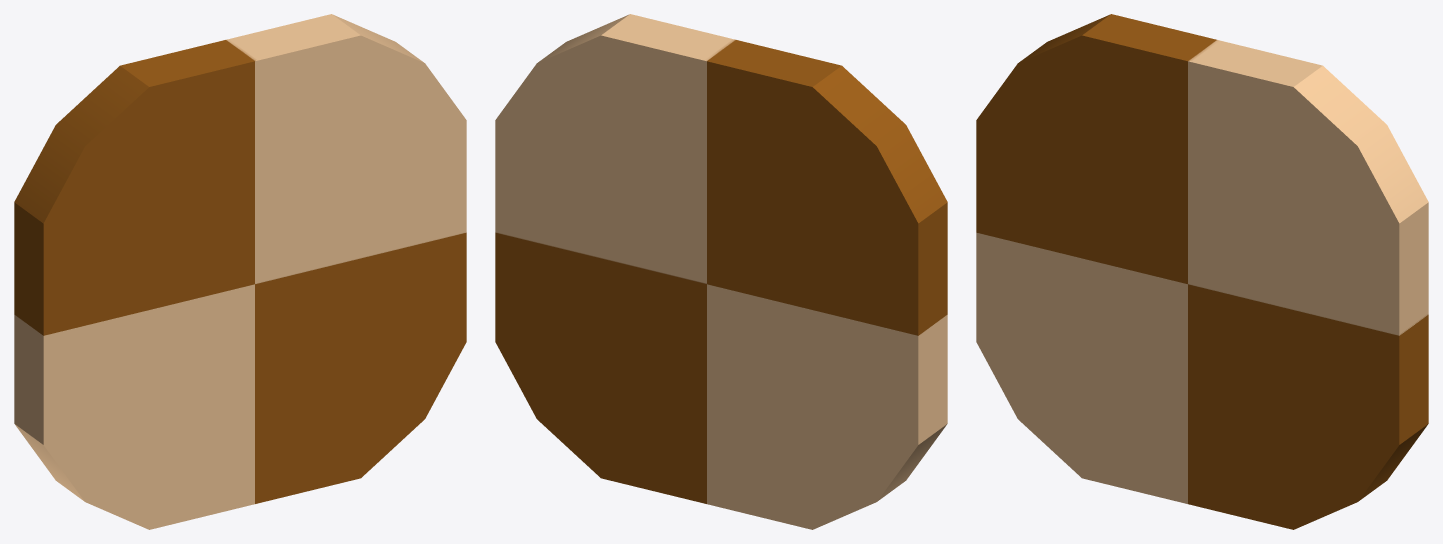
The model's file is Cookie.obj.
3 views of the same model, side by side, from view 1: azimuth 30°, elevation 25°; view 2: azimuth 150°, elevation 25°; view 3: azimuth 330°, elevation 25° (orthographic).
Visible parts, largest first — view 1: Cube; view 2: Cube; view 3: Cube.
Boxes of the visible parts, x1=… form: Cube: x1=14, y1=14, x2=466, y2=529; Cube: x1=495, y1=14, x2=947, y2=529; Cube: x1=976, y1=14, x2=1428, y2=529.
Size of the model in its own units: 1 by 1 by 0.12.
1 material, 1 textured.
